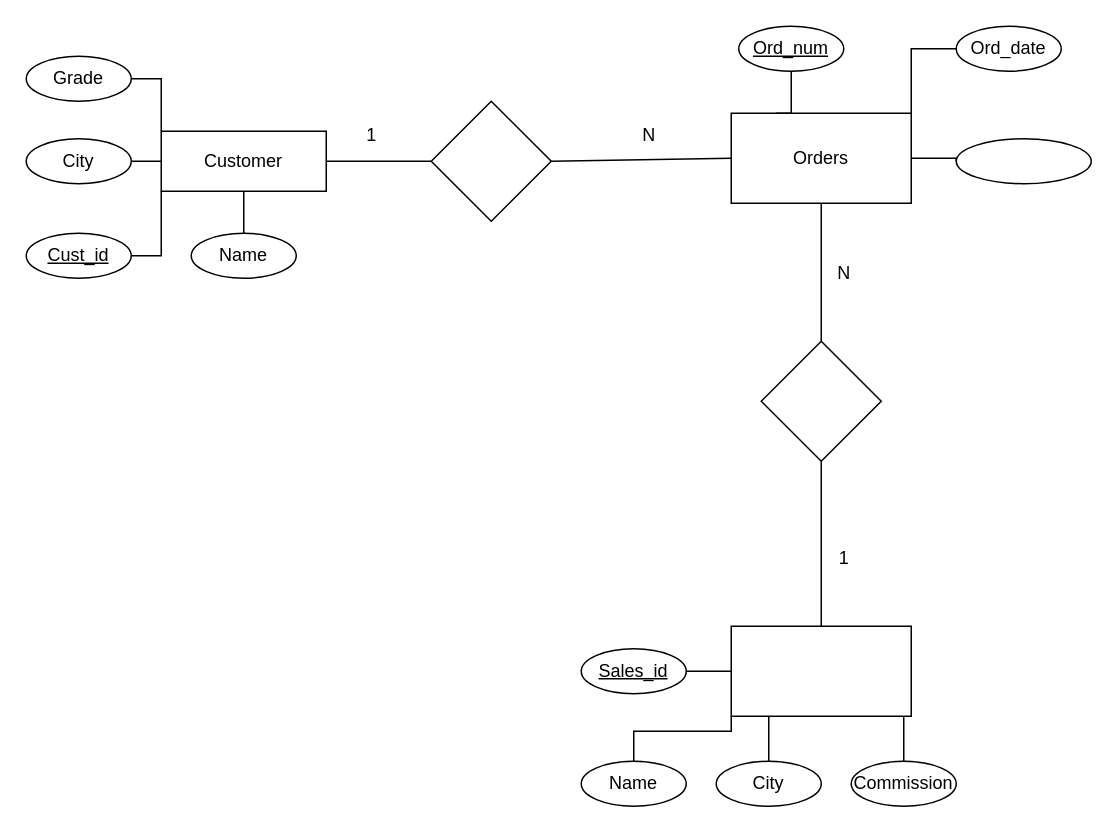
The diagram is 1118 pixels wide and 833 high, and some of its shapes have lost their labels. Each missing label, with the centre of its shape:
"Assigned" goes at (820,400).
"Places" goes at (490,160).
"Purchase_amt" goes at (1023,160).
"Salesman" goes at (820,670).
